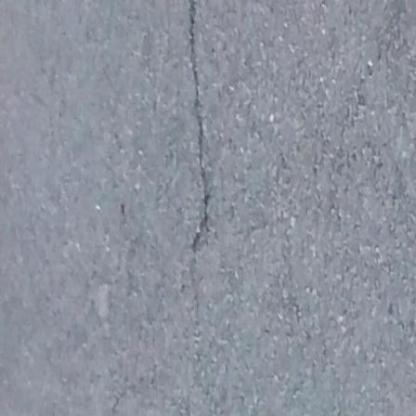Cracks: (173, 0, 227, 328)
